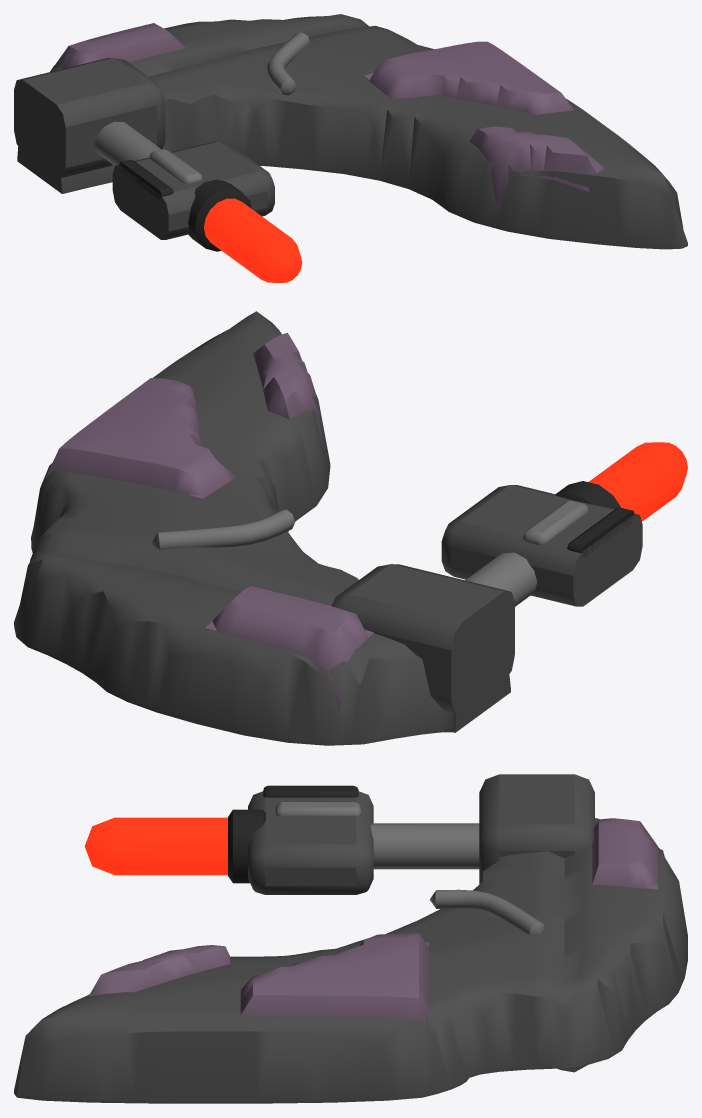
File: arch_right.glb
The picture shows the model from 3 angles, top to bottom: view 1: azimuth 30°, elevation 25°; view 2: azimuth 150°, elevation 25°; view 3: azimuth 270°, elevation 25°; orthographic projection. The views are drawn at different scales.
Parts seen in each view (by area): view 1: arms, hub, plate4, brace, thruster1, plate5, plate3, rod1, collar1, rib1, brace_light1, brace_slot; view 2: arms, hub, brace, plate4, plate3, thruster1, plate5, rib1, rod1, brace_light1, brace_slot, collar1; view 3: arms, plate4, brace, hub, thruster1, rod1, plate3, plate5, rib1, collar1, brace_light1, brace_slot.
Part boxes in pixels (<box>): arms: <box>17,14,687,249</box>; hub: <box>14,58,165,177</box>; plate4: <box>363,41,573,114</box>; brace: <box>112,141,274,239</box>; thruster1: <box>204,198,302,282</box>; plate5: <box>469,126,604,202</box>; plate3: <box>54,23,185,68</box>; rod1: <box>94,121,161,165</box>; collar1: <box>188,179,251,251</box>; rib1: <box>267,32,309,95</box>; brace_light1: <box>149,149,202,183</box>; brace_slot: <box>119,160,173,198</box>; arms: <box>14,311,510,745</box>; hub: <box>331,564,514,712</box>; brace: <box>441,485,642,606</box>; plate4: <box>45,378,236,499</box>; plate3: <box>205,586,373,710</box>; thruster1: <box>588,442,687,521</box>; plate5: <box>253,332,322,446</box>; rib1: <box>151,509,294,549</box>; rod1: <box>465,552,537,606</box>; brace_light1: <box>523,500,588,544</box>; brace_slot: <box>567,508,634,556</box>; collar1: <box>555,481,620,508</box>; arms: <box>14,818,687,1103</box>; plate4: <box>240,933,428,1027</box>; brace: <box>248,791,373,894</box>; hub: <box>479,774,594,883</box>; thruster1: <box>84,817,227,875</box>; rod1: <box>370,823,479,869</box>; plate3: <box>592,818,657,890</box>; plate5: <box>89,945,230,996</box>; rib1: <box>430,889,544,935</box>; collar1: <box>228,809,265,883</box>; brace_light1: <box>275,801,361,816</box>; brace_slot: <box>263,785,358,797</box>.
Size of the model in its own units: 22 by 4.52 by 26.81.
